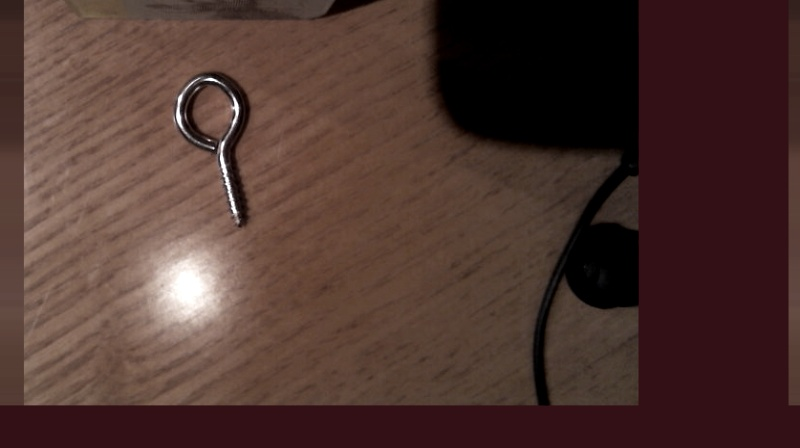O001: (169, 69, 254, 229)
